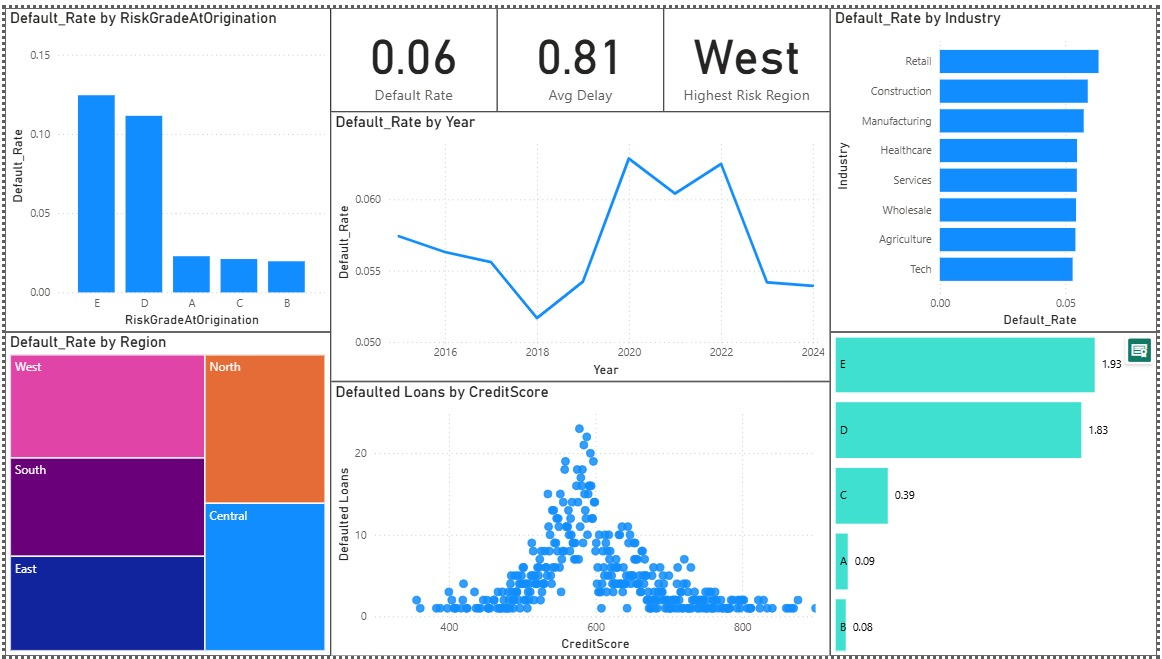

This screenshot's page, from the dashboard's own definition file:
{"tool":"powerbi","page":{"name":"Risk & Performance Insights","canvas":[1280,720],"ordinal":1},"visuals":[{"type":"card","fields":{"Values":["Loans.Default Rate"]},"box":[364,6,179,106],"z":0},{"type":"card","fields":{"Values":["Repayments.Avg Delay"]},"box":[552,6,177,106],"z":1000},{"type":"card","fields":{"Values":["Customers.Highest Risk Region"]},"box":[736.7,6,179,106],"z":2000},{"type":"columnChart","fields":{"Y":["Loans.Default_Rate"],"Category":["Loans.RiskGradeAtOrigination"]},"box":[6,6,352,351],"z":3000},{"type":"barChart","fields":{"Y":["Loans.Default_Rate"],"Category":["Customers.Industry"]},"box":[922,6,352,351],"z":4000},{"type":"treemap","fields":{"Values":["Loans.Default_Rate"],"Group":["Customers.Region"]},"box":[6,363,352,351],"z":5000},{"type":"areaChart","fields":{"Category":["Loans.RiskGradeAtOrigination"],"Y":["Repayments.Avg Delay"]},"box":[922,363,352,351],"z":6000},{"type":"scatterChart","fields":{"X":["Customers.CreditScore"],"Y":["Loans.Defaulted Loans"]},"box":[363,420,553,294],"z":7000},{"type":"lineChart","fields":{"Y":["Loans.Default_Rate"],"Category":["Loans.OriginationDate.Variation.Date Hierarchy.Year"]},"box":[363,118,553,294],"z":8000}]}

Visuals, with their boxes in screenshot pixels (x1, y1, x2, y2), scaled from the page's 1280x720 canvas onto the 1162x659 screenshot:
card - Loans.Default Rate: 330, 5, 493, 103
card - Repayments.Avg Delay: 501, 5, 662, 103
card - Customers.Highest Risk Region: 669, 5, 831, 103
columnChart - Loans.Default_Rate x Loans.RiskGradeAtOrigination: 5, 5, 325, 327
barChart - Loans.Default_Rate x Customers.Industry: 837, 5, 1157, 327
treemap - Loans.Default_Rate x Customers.Region: 5, 332, 325, 654
areaChart - Loans.RiskGradeAtOrigination x Repayments.Avg Delay: 837, 332, 1157, 654
scatterChart - Customers.CreditScore x Loans.Defaulted Loans: 330, 384, 832, 654
lineChart - Loans.Default_Rate x Loans.OriginationDate.Variation.Date Hierarchy.Year: 330, 108, 832, 377
